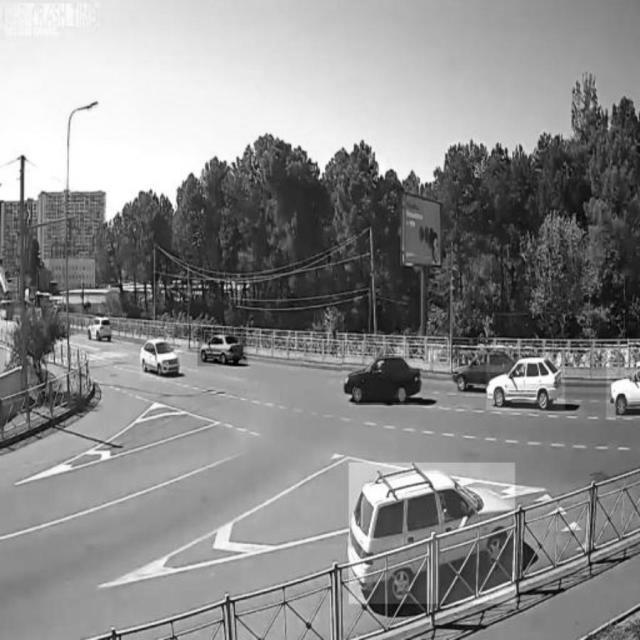vehicle: (349, 463, 515, 604), (487, 358, 565, 410), (342, 354, 423, 404), (453, 347, 508, 392), (198, 328, 248, 366), (606, 362, 640, 417), (140, 337, 181, 381), (85, 313, 113, 345)
